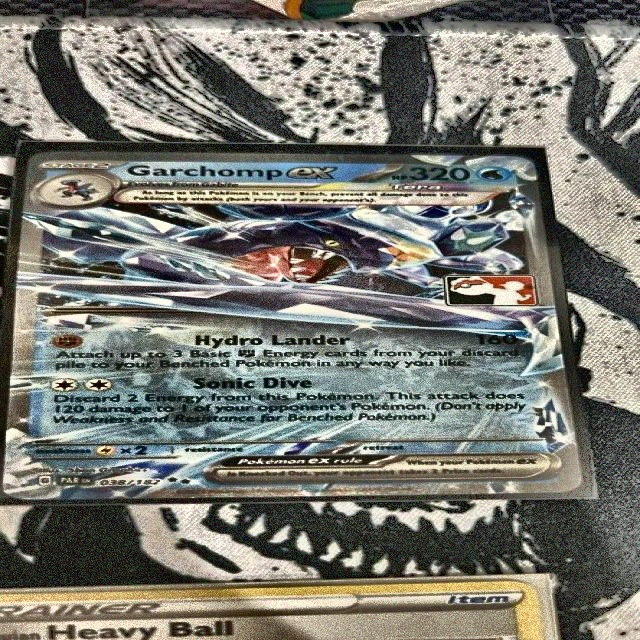card: (3, 151, 587, 501)
